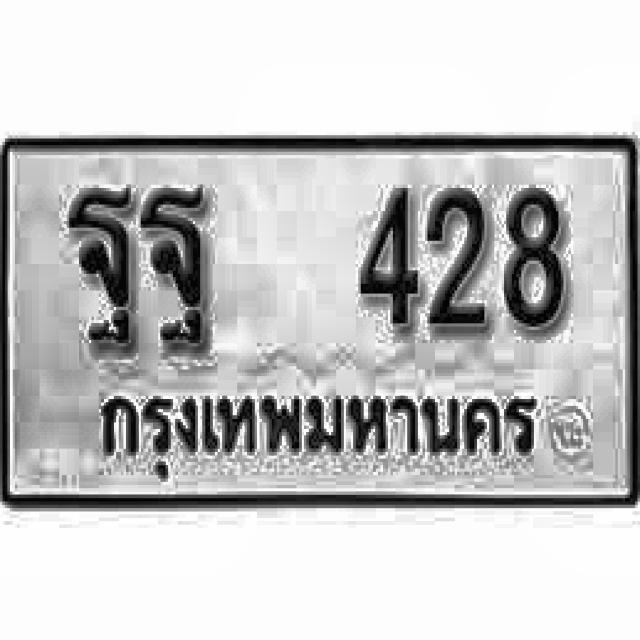license-plate: (0, 125, 640, 516)
